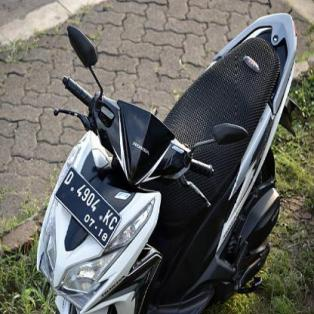Motocicleta: (34, 14, 302, 313)
